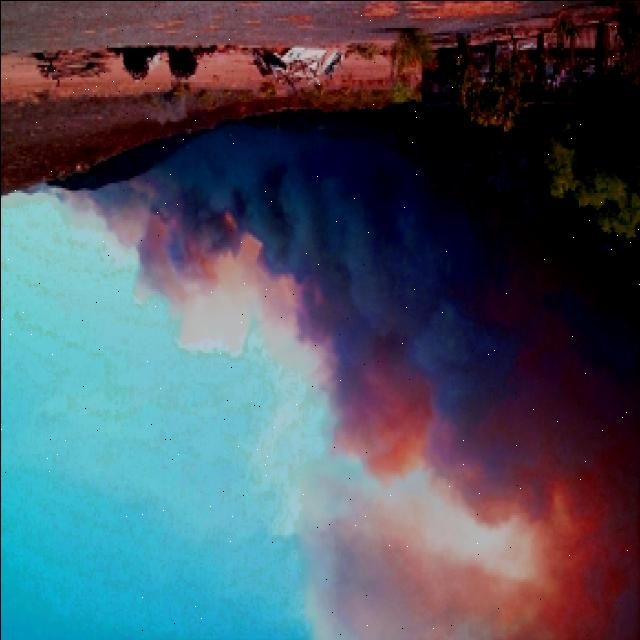asap: (24, 114, 640, 640)
